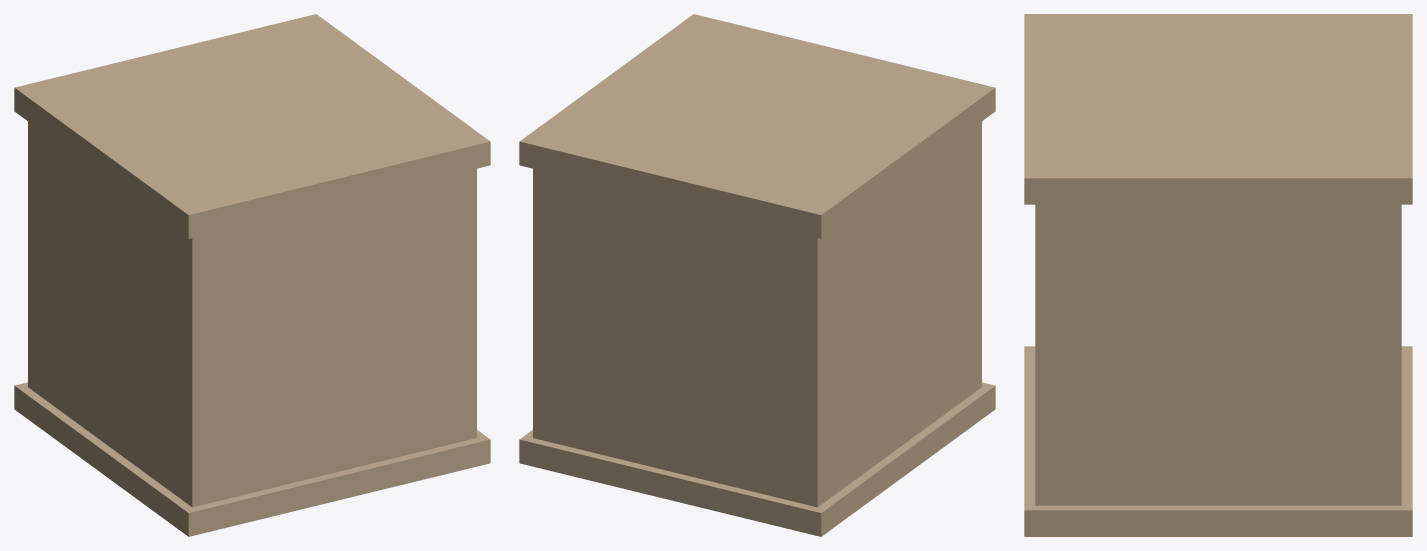
Rendered from crate.gltf.
3 renders of one model, left to right at view 1: azimuth 30°, elevation 25°; view 2: azimuth 150°, elevation 25°; view 3: azimuth 270°, elevation 25°, orthographic. The views are drawn at different scales.
Visible parts, largest first — view 1: crate; view 2: crate; view 3: crate.
Part boxes in pixels (x1,y1,x2,y2): crate: [14, 14, 490, 536]; crate: [519, 14, 995, 536]; crate: [1024, 14, 1412, 536].
Bounding box in the file's own units: 1.06 × 1.08 × 1.06.
